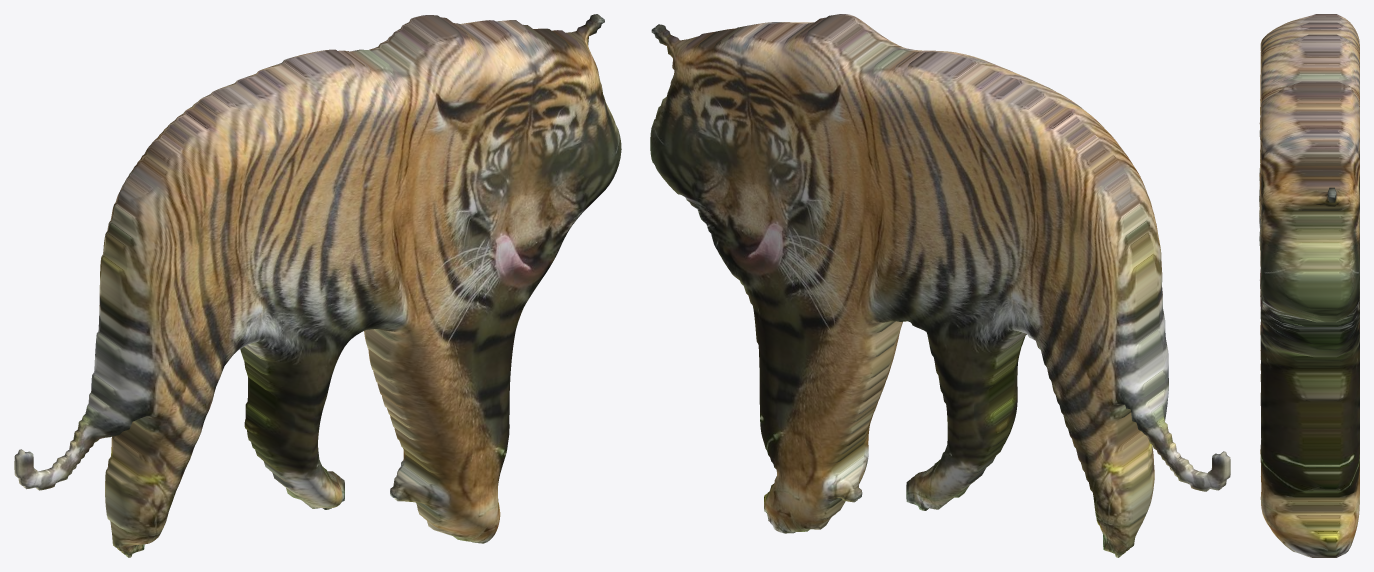
File: tiger_50541307.glb
3 views of the same model, side by side, from view 1: azimuth 30°, elevation 25°; view 2: azimuth 150°, elevation 25°; view 3: azimuth 270°, elevation 25° (orthographic). The views are drawn at different scales.
Parts seen in each view (by area): view 1: tiger_50541307; view 2: tiger_50541307; view 3: tiger_50541307.
Part boxes in pixels (x1,y1,x2,y2): tiger_50541307: [14, 14, 621, 557]; tiger_50541307: [650, 14, 1230, 557]; tiger_50541307: [1259, 14, 1359, 557].
Bounding box in the file's own units: 1.97 × 1.65 × 0.334.
1 material, 1 textured.
